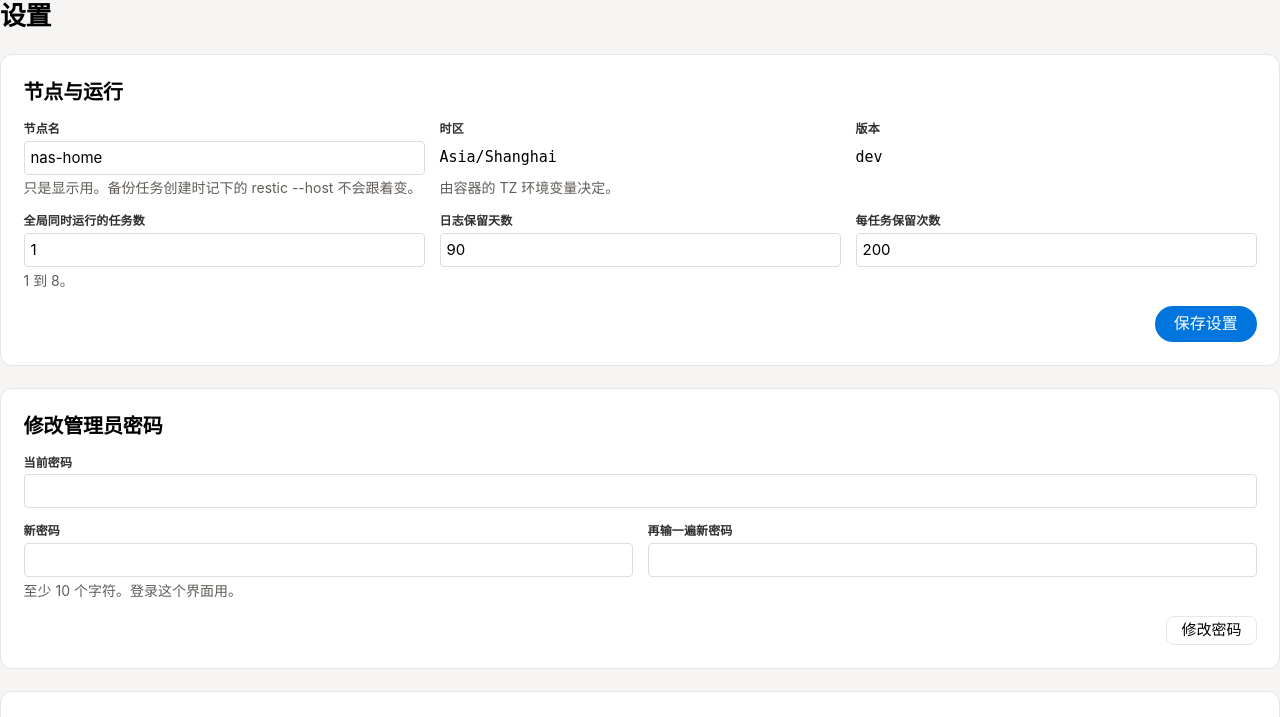
Scenario: change password redirects to login
Type "old password 1" into the password field labelled "当前密码" at (640,491), box [24,474,1256,508]
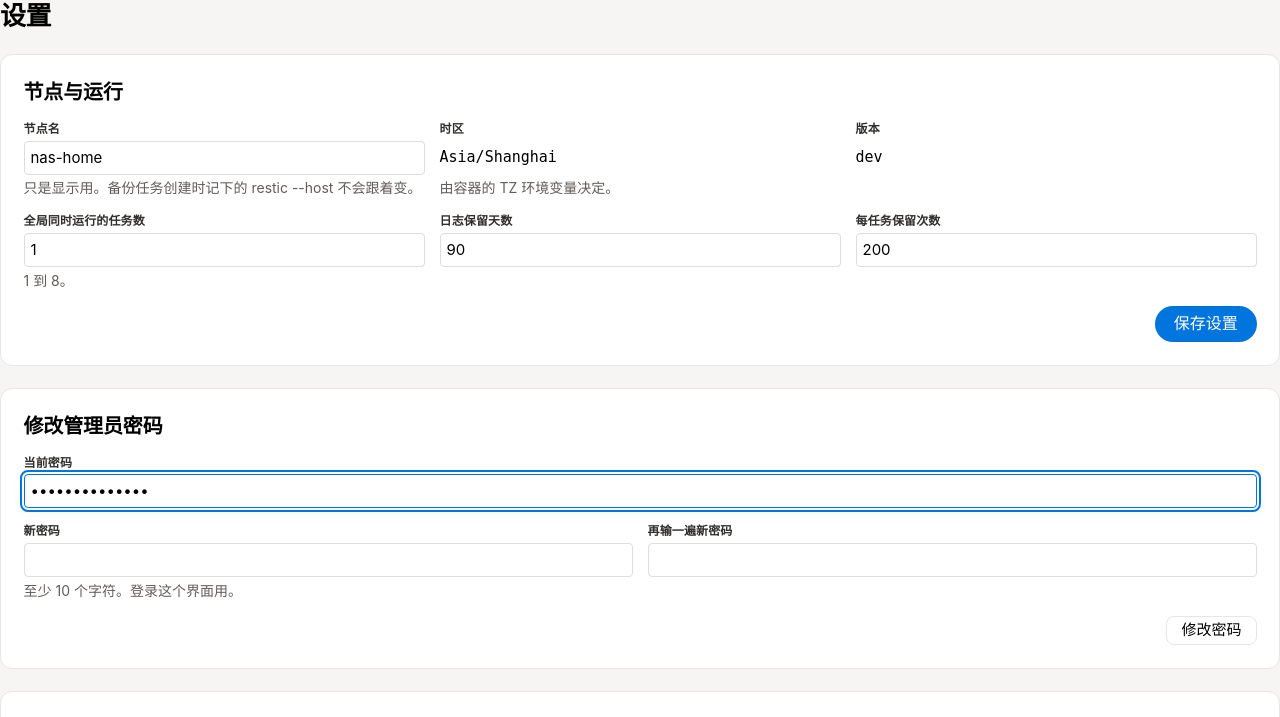
Type "new password 22" into the password field labelled "新密码" at (328,560), box [24,543,632,577]
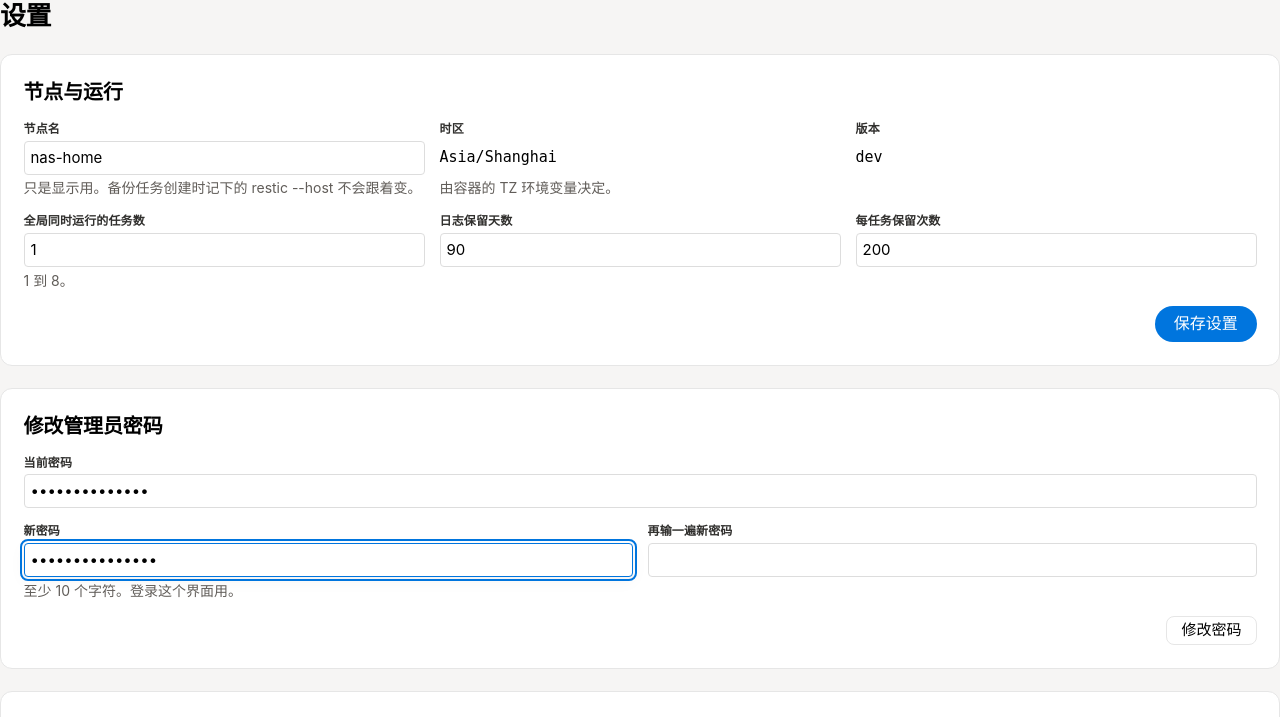
Type "new password 22" into the password field labelled "再输一遍新密码" at (952,560), box [648,543,1256,577]
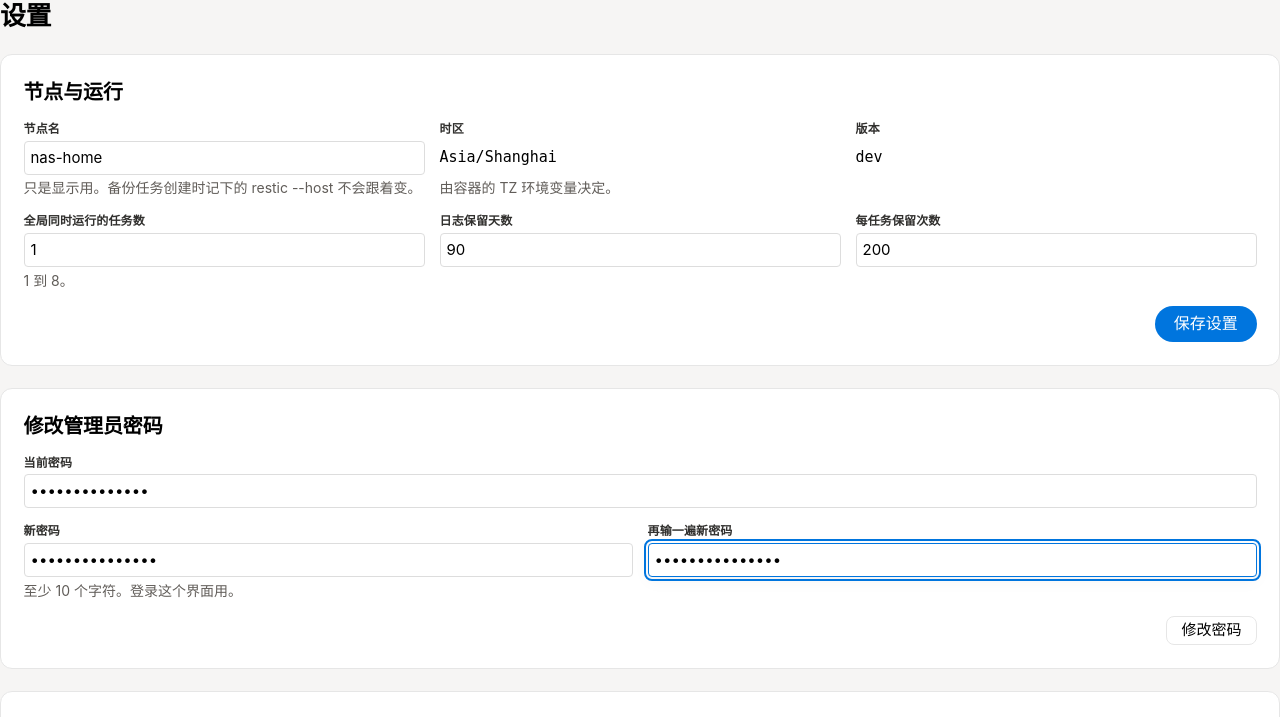
Click the button "修改密码" at (1212,630), box [1166,616,1256,645]
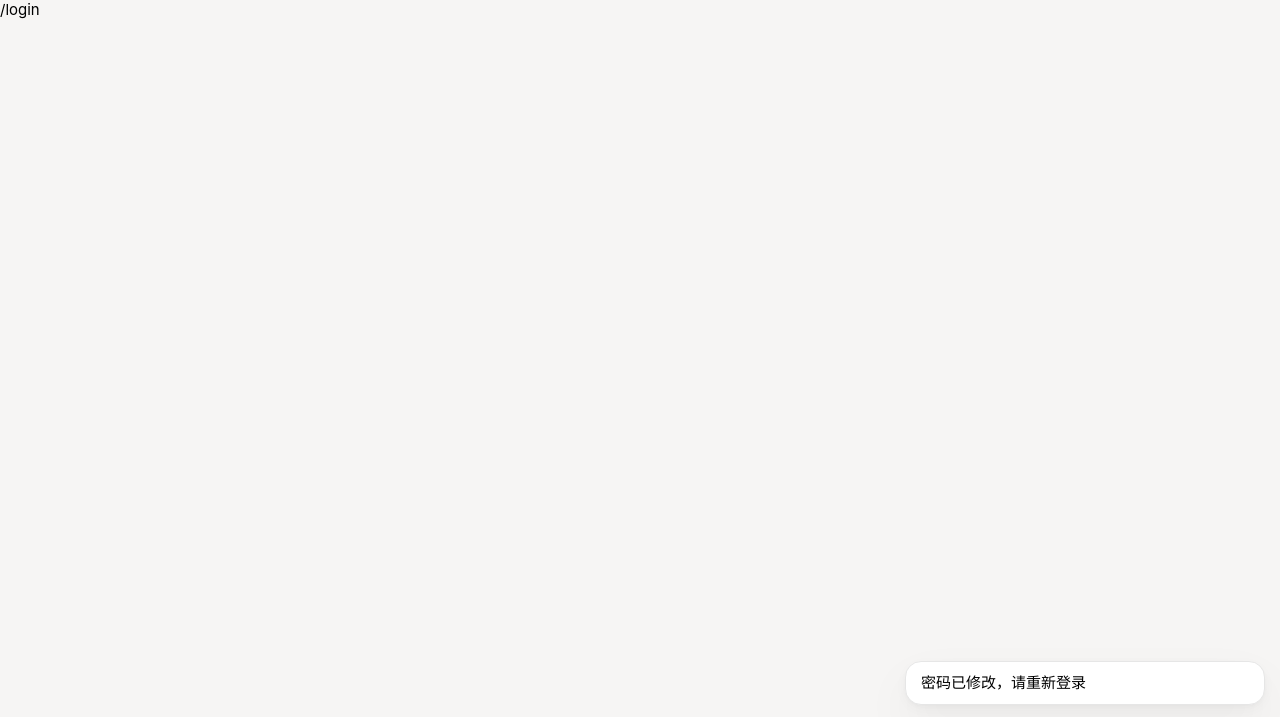
Now the text with test id "loc" reads "/login", box [0,0,40,19]
